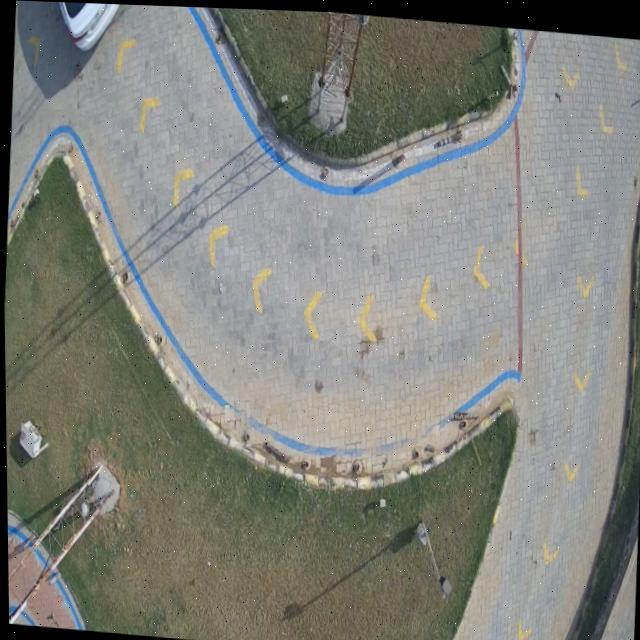car: (58, 2, 120, 50)
